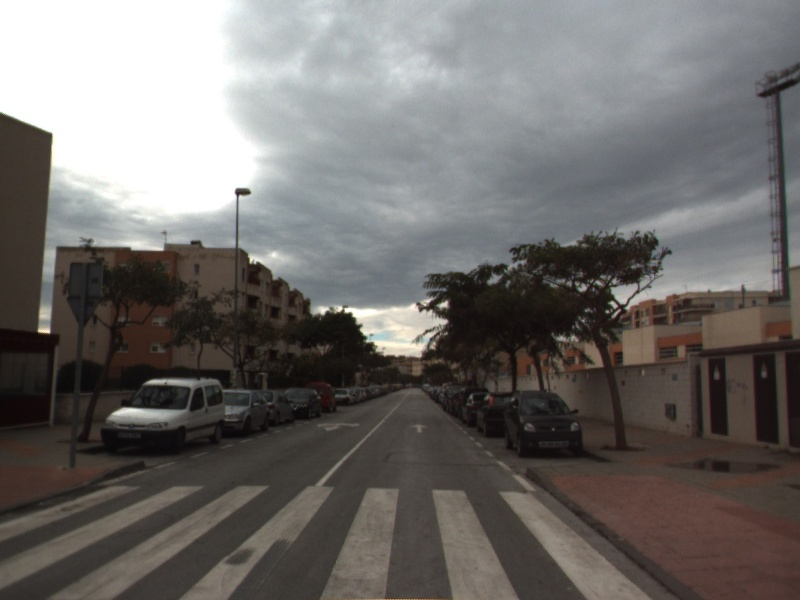STRAIGHT: (409, 421, 430, 434)
